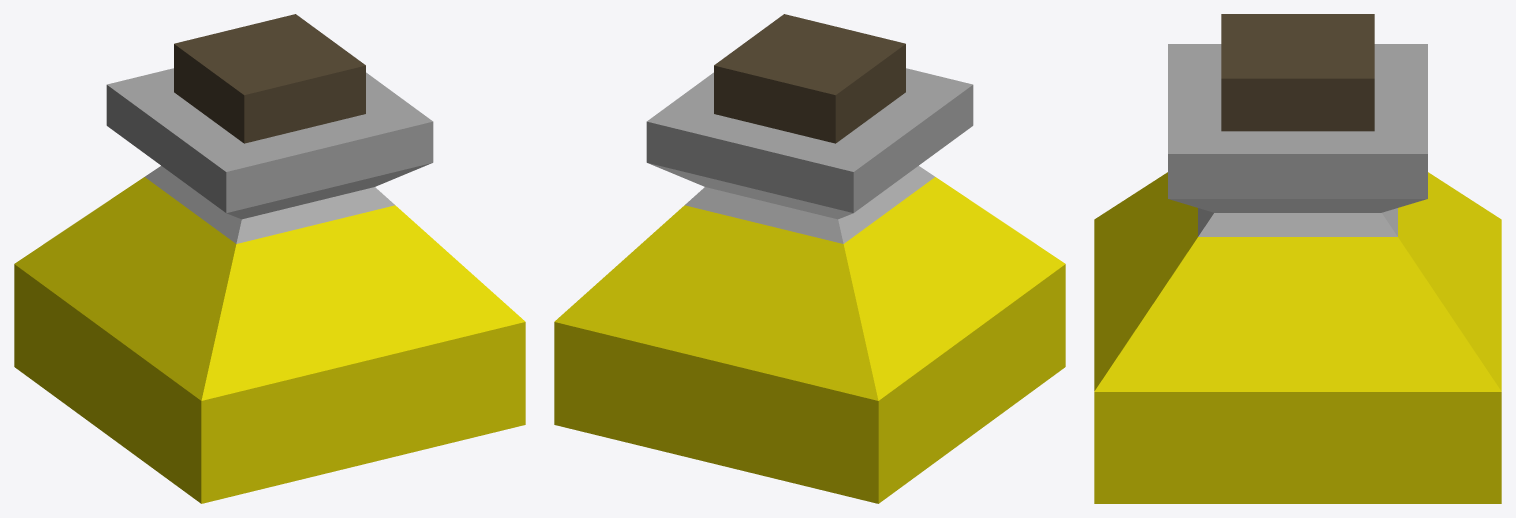
The model's file is Elixir3.fbx.
3 renders of one model, left to right at view 1: azimuth 30°, elevation 25°; view 2: azimuth 150°, elevation 25°; view 3: azimuth 270°, elevation 25°, orthographic. The views are drawn at different scales.
Parts seen in each view (by area): view 1: pCube3; view 2: pCube3; view 3: pCube3.
Boxes of the visible parts, x1,y1,x2,y2 form: pCube3: (14, 14, 525, 503); pCube3: (554, 14, 1065, 503); pCube3: (1094, 14, 1501, 503).
Bounding box in the file's own units: 42.36 × 42.59 × 42.36.
